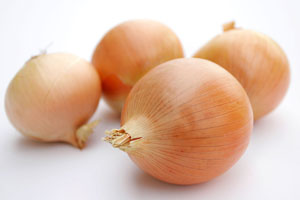onion: (106, 58, 252, 186), (4, 52, 103, 151), (195, 19, 291, 117), (89, 18, 185, 114)
